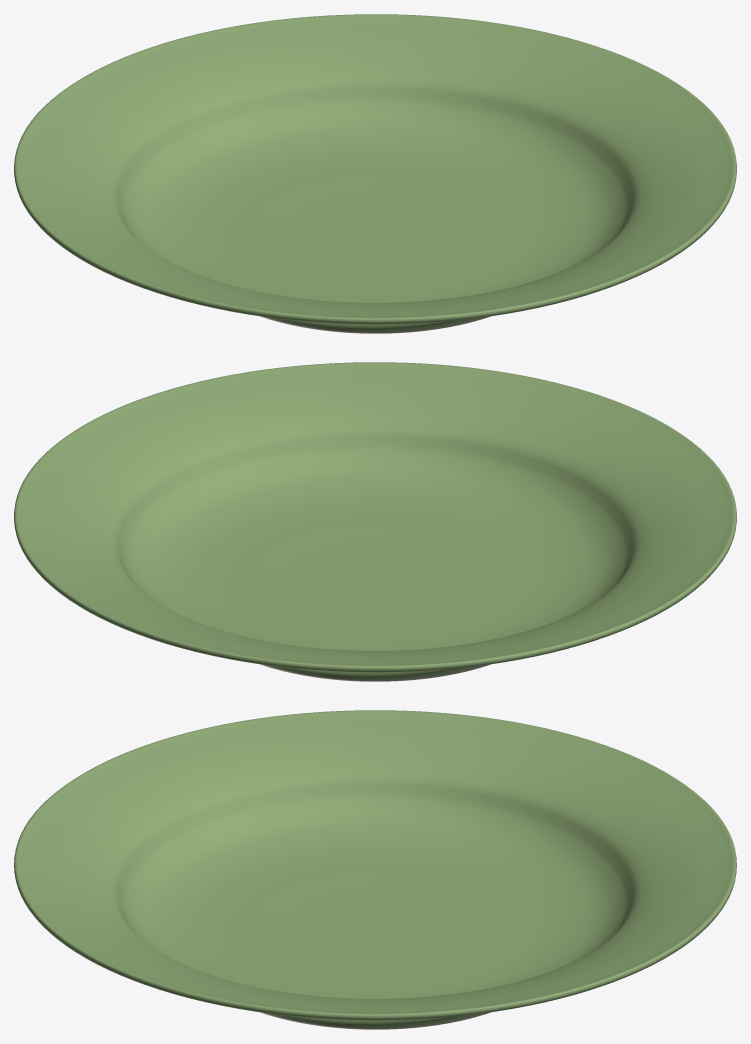
Rendered from sage-plate.glb.
The picture shows the model from 3 angles, top to bottom: view 1: azimuth 30°, elevation 25°; view 2: azimuth 150°, elevation 25°; view 3: azimuth 270°, elevation 25°; orthographic projection.
Parts seen in each view (by area): view 1: sage-plate; view 2: sage-plate; view 3: sage-plate.
Part boxes in pixels (x1=…): sage-plate: x1=14, y1=14, x2=736, y2=333; sage-plate: x1=14, y1=362, x2=736, y2=681; sage-plate: x1=14, y1=710, x2=736, y2=1029.
Bounding box in the file's own units: 0.2404 × 0.0332 × 0.2404.
Materials: 1 (1 with a texture image).
